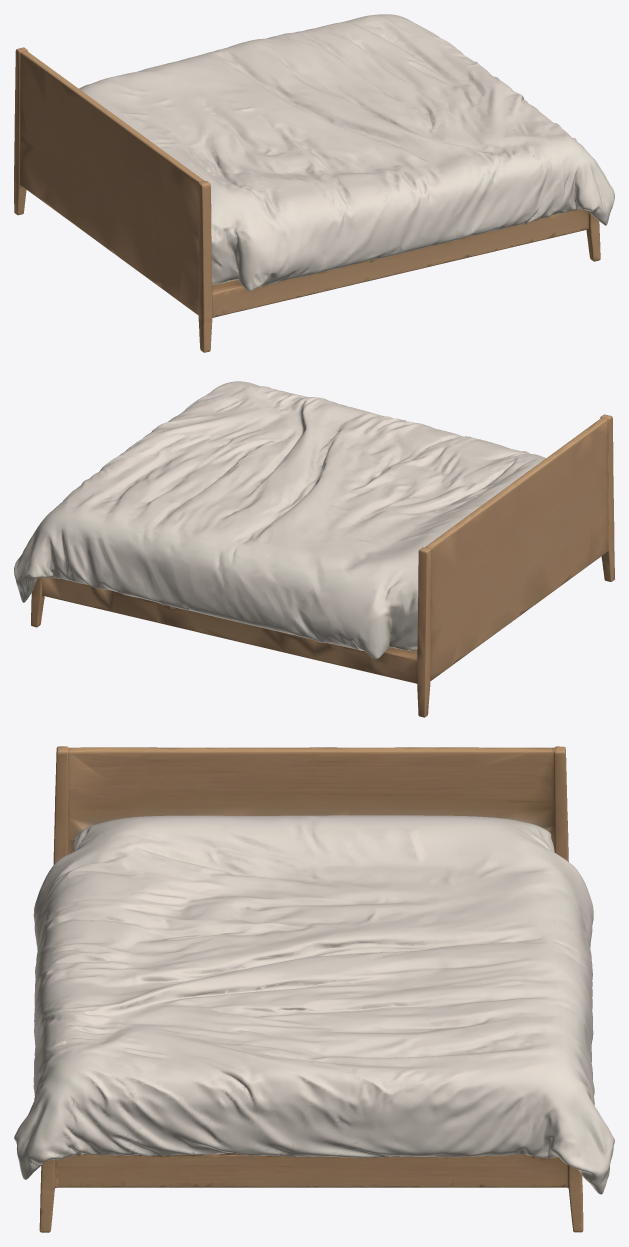
Rendered from bed.glb.
3 views of the same model, one above another, from view 1: azimuth 30°, elevation 25°; view 2: azimuth 150°, elevation 25°; view 3: azimuth 270°, elevation 25° (orthographic). The views are drawn at different scales.
Visible parts, largest first — view 1: tripo_node_cac6d244-c586-4476-b129-c1c64600cd76; view 2: tripo_node_cac6d244-c586-4476-b129-c1c64600cd76; view 3: tripo_node_cac6d244-c586-4476-b129-c1c64600cd76.
Boxes of the visible parts, x1,y1,x2,y2 form: tripo_node_cac6d244-c586-4476-b129-c1c64600cd76: [14, 14, 614, 352]; tripo_node_cac6d244-c586-4476-b129-c1c64600cd76: [14, 381, 614, 717]; tripo_node_cac6d244-c586-4476-b129-c1c64600cd76: [14, 746, 614, 1232].
Bounding box in the file's own units: 1 × 0.3871 × 0.9304.
1 material, 1 textured.
